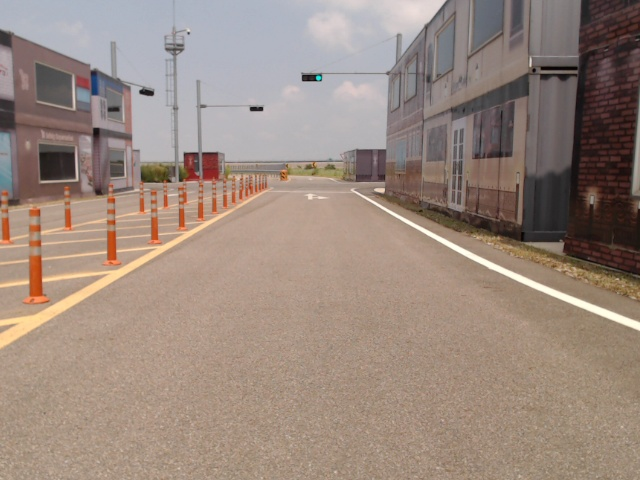green_3: (302, 74, 323, 82)
